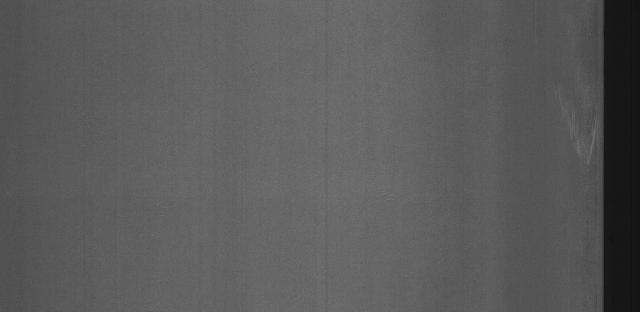silk_spot: (541, 88, 598, 171)
